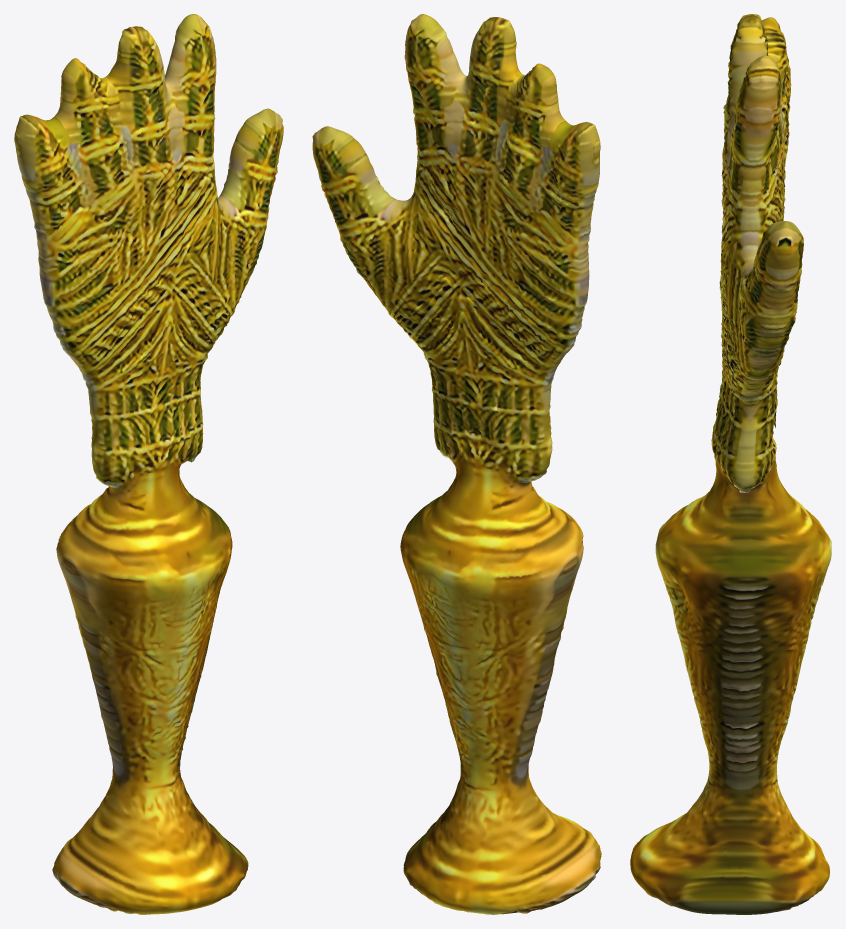
The model's file is kfl-2144.glb.
The picture shows the model from 3 angles, left to right: view 1: azimuth 30°, elevation 25°; view 2: azimuth 150°, elevation 25°; view 3: azimuth 270°, elevation 25°; orthographic projection. The views are drawn at different scales.
Parts seen in each view (by area): view 1: kfl-2144; view 2: kfl-2144; view 3: kfl-2144.
Boxes of the visible parts, x1,y1,x2,y2 form: kfl-2144: (14,14,283,914); kfl-2144: (312,14,601,914); kfl-2144: (630,14,831,914).
Bounding box in the file's own units: 0.3305 × 0.9914 × 0.2082.
Materials: 1 (1 with a texture image).
